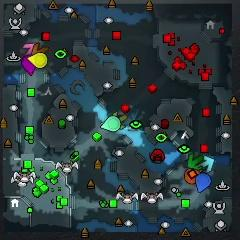p1: (194, 174, 212, 194)
p2: (100, 117, 120, 132)
p3: (21, 55, 37, 75)
p4: (29, 53, 49, 68)
p5: (185, 170, 201, 185)
x1: (23, 43, 35, 54)
x2: (113, 113, 128, 129)
x3: (202, 154, 215, 172)
x4: (186, 156, 202, 170)
x5: (33, 43, 49, 54)
